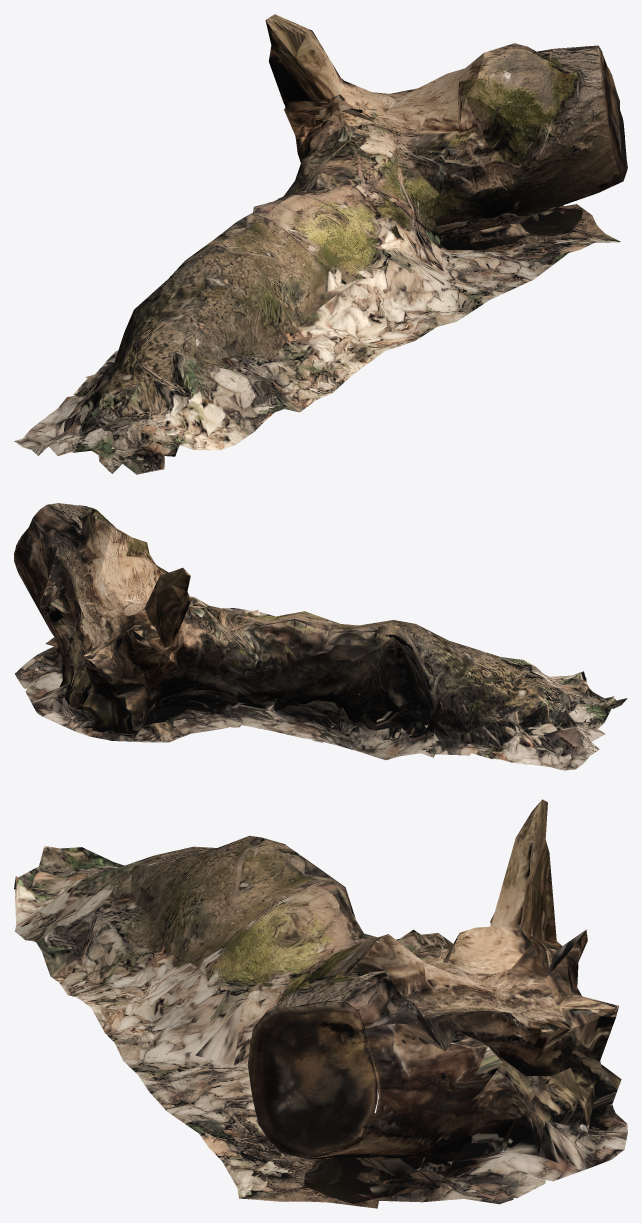
Rendered from fallen_stump_tree_optimized.glb.
3 views of the same model, one above another, from view 1: azimuth 30°, elevation 25°; view 2: azimuth 150°, elevation 25°; view 3: azimuth 270°, elevation 25° (orthographic). The views are drawn at different scales.
Parts seen in each view (by area): view 1: rootLP.001_Default OBJ_0; view 2: rootLP.001_Default OBJ_0; view 3: rootLP.001_Default OBJ_0.
Part boxes in pixels (x1,y1,x2,y2): rootLP.001_Default OBJ_0: [14, 14, 627, 474]; rootLP.001_Default OBJ_0: [14, 503, 627, 770]; rootLP.001_Default OBJ_0: [14, 799, 627, 1208].
Size of the model in its own units: 2.17 by 0.7896 by 1.36.
Materials: 1 (1 with a texture image).
